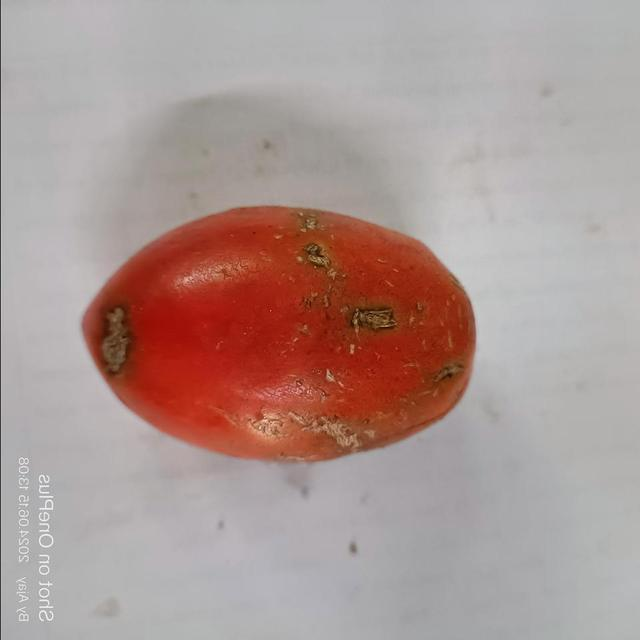Bacterial Spot Fruit: (13, 9, 299, 287)
